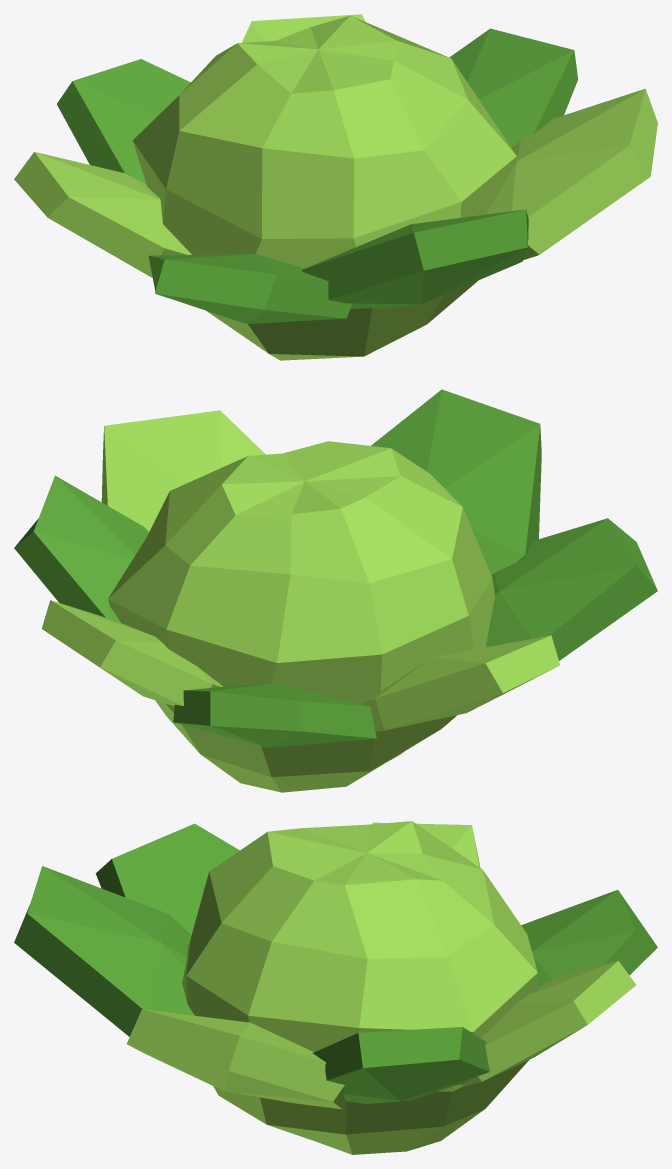
File: lettuce_item.obj
3 views of the same model, one above another, from view 1: azimuth 30°, elevation 25°; view 2: azimuth 150°, elevation 25°; view 3: azimuth 270°, elevation 25° (orthographic). The views are drawn at different scales.
Parts seen in each view (by area): view 1: item; view 2: item; view 3: item.
Part boxes in pixels (left/top/right/bottom): item: left=14, top=14, right=657, bottom=360; item: left=14, top=389, right=657, bottom=792; item: left=14, top=821, right=657, bottom=1154.
Size of the model in its own units: 0.6399 by 0.3268 by 0.6781.
